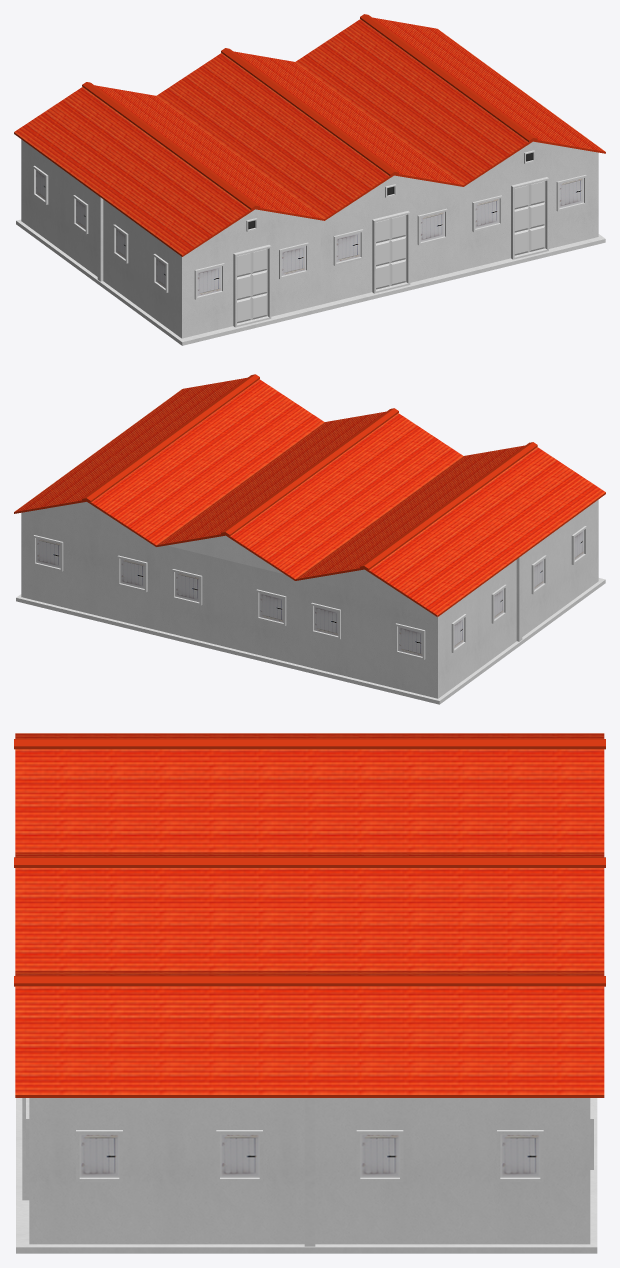
Rendered from House.fbx.
The picture shows the model from 3 angles, top to bottom: view 1: azimuth 30°, elevation 25°; view 2: azimuth 150°, elevation 25°; view 3: azimuth 270°, elevation 25°; orthographic projection. The views are drawn at different scales.
Parts seen in each view (by area): view 1: Cube; view 2: Cube; view 3: Cube.
Boxes of the visible parts, x1,y1,x2,y2 form: Cube: (14,14,605,345); Cube: (14,374,605,704); Cube: (14,733,605,1253).
Size of the model in its own units: 12.2 by 3.38 by 8.44.
